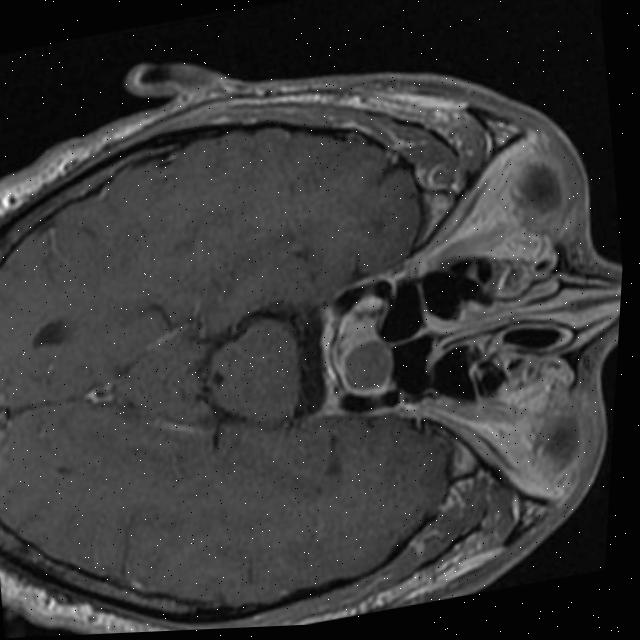Pituitary: (335, 335, 400, 399)
